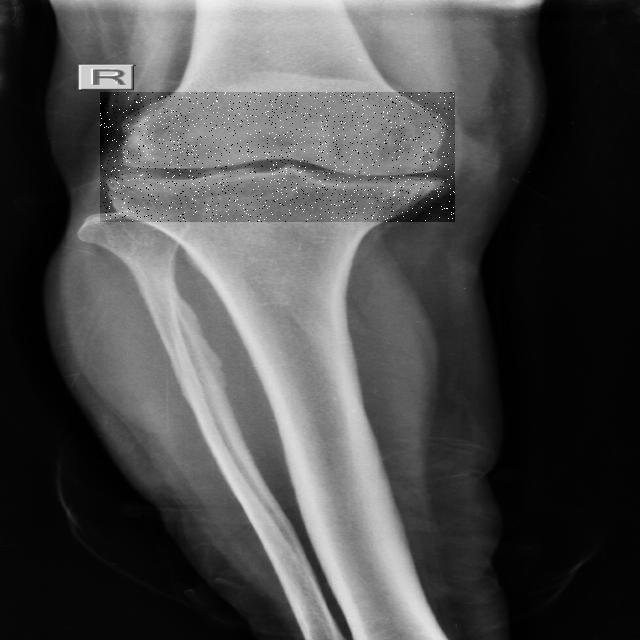normal: (100, 92, 455, 222)
